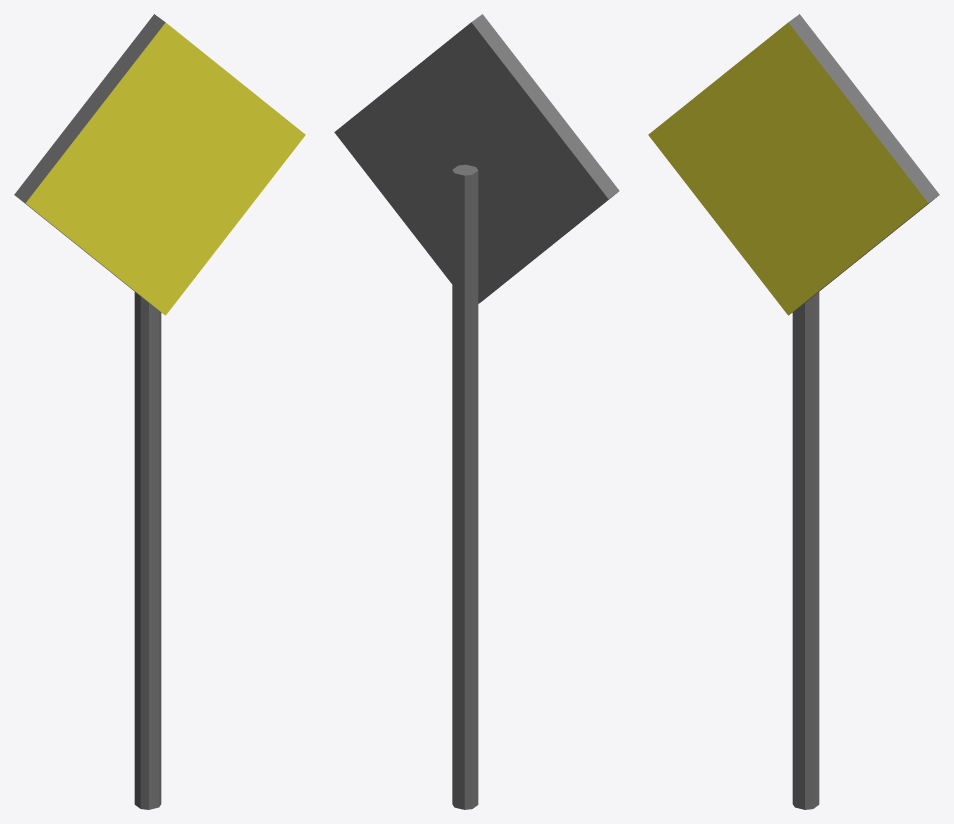
File: Sign02.fbx
The picture shows the model from 3 angles, left to right: view 1: azimuth 30°, elevation 25°; view 2: azimuth 150°, elevation 25°; view 3: azimuth 330°, elevation 25°; orthographic projection. The views are drawn at different scales.
Visible parts, largest first — view 1: Sign.001; view 2: Sign.001; view 3: Sign.001.
Boxes of the visible parts, x1,y1,x2,y2 form: Sign.001: [14, 14, 305, 809]; Sign.001: [334, 14, 619, 809]; Sign.001: [648, 14, 939, 809].
Bounding box in the file's own units: 136 × 368 × 19.8.
